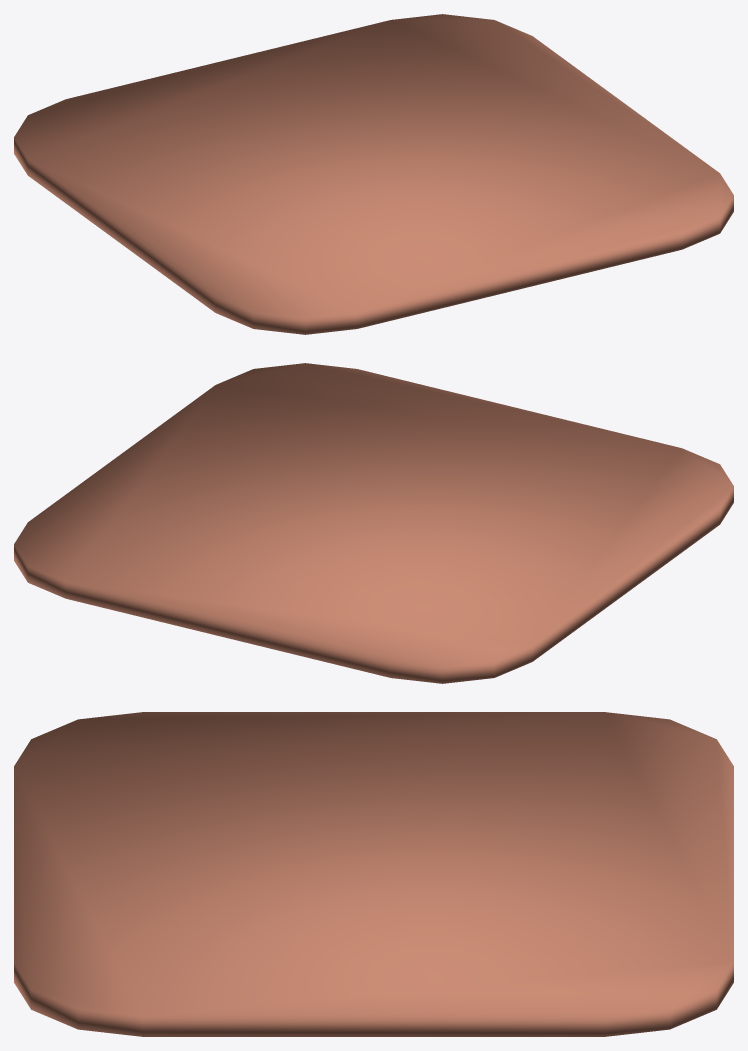
The model's file is planebottom.glb.
The picture shows the model from 3 angles, top to bottom: view 1: azimuth 30°, elevation 25°; view 2: azimuth 150°, elevation 25°; view 3: azimuth 270°, elevation 25°; orthographic projection. The views are drawn at different scales.
Parts seen in each view (by area): view 1: Plane.008; view 2: Plane.008; view 3: Plane.008.
Part boxes in pixels (bbox=[...]): Plane.008: bbox=[14, 14, 733, 334]; Plane.008: bbox=[14, 363, 733, 683]; Plane.008: bbox=[14, 712, 733, 1036].
Bounding box in the file's own units: 3.99 × 0.1247 × 3.99.
